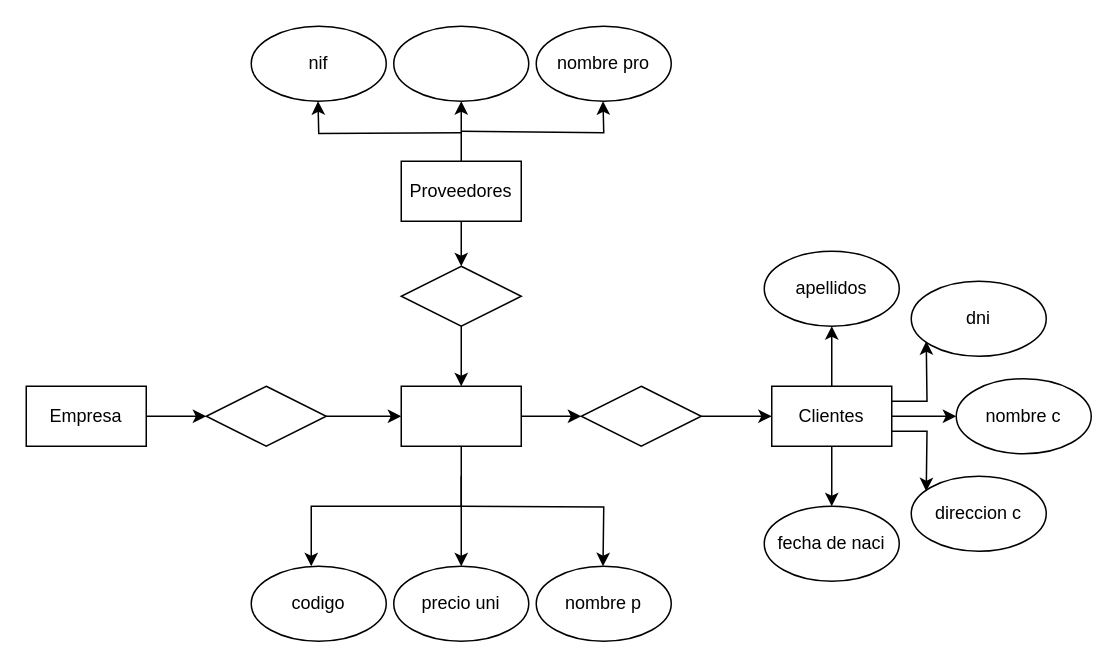
The diagram is 1118 pixels wide and 668 high, and some of its shapes have lost their labels. The shapes that lost their labels are listed below. From the top down, each one's box as (x1, y1, x2, y2) in pixels, then its label:
(392, 25, 529, 101): direccion pro
(400, 265, 521, 326): Suministra
(205, 385, 326, 446): Vende
(400, 385, 521, 446): Productos
(580, 385, 701, 446): Pedido
